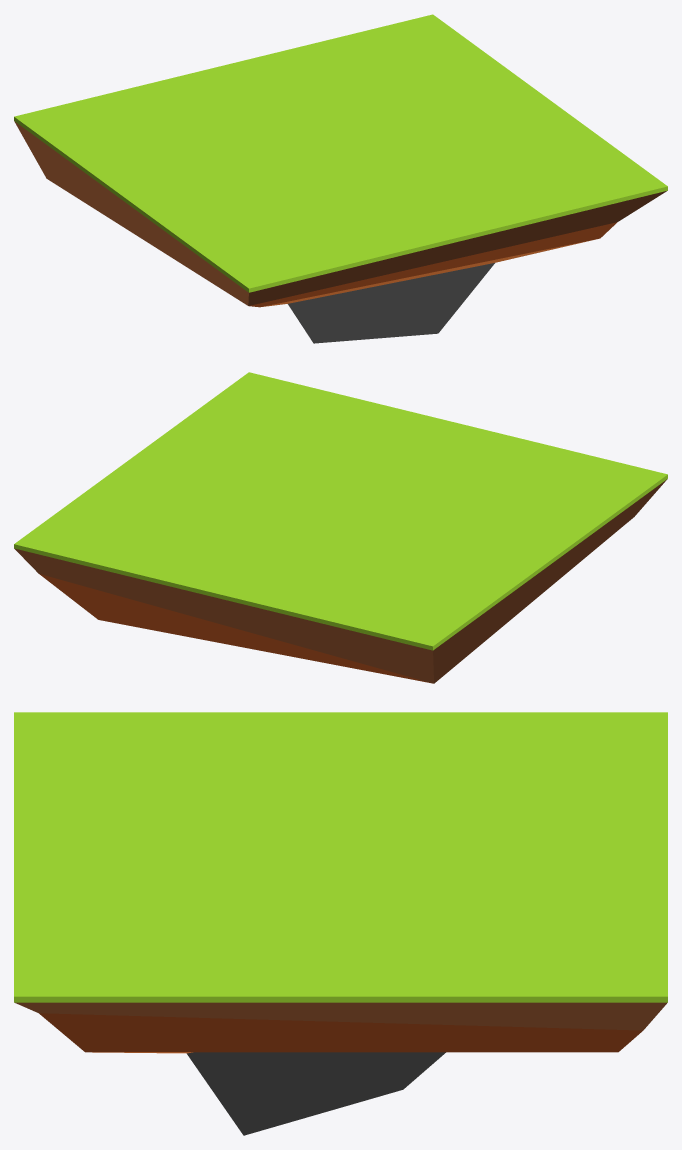
The model's file is solo.fbx.
3 renders of one model, top to bottom at view 1: azimuth 30°, elevation 25°; view 2: azimuth 150°, elevation 25°; view 3: azimuth 270°, elevation 25°, orthographic. The views are drawn at different scales.
Parts seen in each view (by area): view 1: Cube; view 2: Cube; view 3: Cube.
Boxes of the visible parts, x1=… form: Cube: x1=14, y1=14, x2=667, y2=343; Cube: x1=14, y1=372, x2=667, y2=683; Cube: x1=14, y1=712, x2=667, y2=1135.
Bounding box in the file's own units: 1208 × 473 × 1173.
